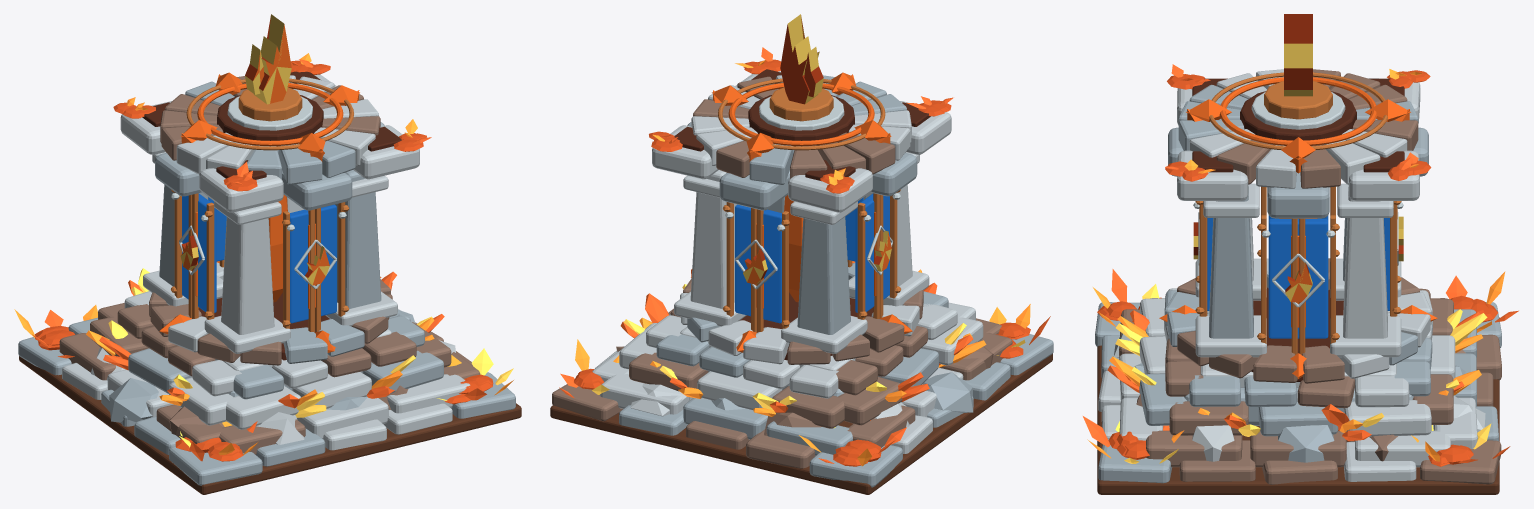
Rendered from fire.fbx.
3 views of the same model, side by side, from view 1: azimuth 30°, elevation 25°; view 2: azimuth 150°, elevation 25°; view 3: azimuth 270°, elevation 25° (orthographic). The views are drawn at different scales.
Visible parts, largest first — view 1: Tower_Premium_Fire_Stonework, Tower_Premium_Fire_Trim, Tower_Premium_Fire_Growth, Tower_Premium_Fire_Core, Tower_Premium_Fire_Elemental_Gems, Tower_Premium_Fire_Foundation_Rocks, Tower_Premium_Fire_Outer_Foliage; view 2: Tower_Premium_Fire_Stonework, Tower_Premium_Fire_Trim, Tower_Premium_Fire_Growth, Tower_Premium_Fire_Core, Tower_Premium_Fire_Foundation_Rocks, Tower_Premium_Fire_Elemental_Gems, Tower_Premium_Fire_Outer_Foliage; view 3: Tower_Premium_Fire_Stonework, Tower_Premium_Fire_Trim, Tower_Premium_Fire_Growth, Tower_Premium_Fire_Core, Tower_Premium_Fire_Outer_Foliage, Tower_Premium_Fire_Foundation_Rocks, Tower_Premium_Fire_Elemental_Gems.
Boxes of the visible parts, bbox=[...] form: Tower_Premium_Fire_Stonework: bbox=[18, 74, 515, 485]; Tower_Premium_Fire_Trim: bbox=[142, 71, 401, 360]; Tower_Premium_Fire_Growth: bbox=[14, 53, 521, 494]; Tower_Premium_Fire_Core: bbox=[159, 72, 381, 352]; Tower_Premium_Fire_Elemental_Gems: bbox=[180, 14, 329, 285]; Tower_Premium_Fire_Foundation_Rocks: bbox=[90, 309, 455, 444]; Tower_Premium_Fire_Outer_Foliage: bbox=[86, 268, 444, 417]; Tower_Premium_Fire_Stonework: bbox=[552, 71, 1053, 487]; Tower_Premium_Fire_Trim: bbox=[674, 69, 944, 360]; Tower_Premium_Fire_Growth: bbox=[550, 47, 1052, 494]; Tower_Premium_Fire_Core: bbox=[691, 72, 912, 352]; Tower_Premium_Fire_Foundation_Rocks: bbox=[616, 314, 993, 435]; Tower_Premium_Fire_Elemental_Gems: bbox=[743, 14, 891, 284]; Tower_Premium_Fire_Outer_Foliage: bbox=[620, 269, 986, 416]; Tower_Premium_Fire_Stonework: bbox=[1095, 69, 1501, 484]; Tower_Premium_Fire_Trim: bbox=[1192, 72, 1411, 381]; Tower_Premium_Fire_Growth: bbox=[1083, 64, 1518, 494]; Tower_Premium_Fire_Core: bbox=[1159, 72, 1437, 378]; Tower_Premium_Fire_Outer_Foliage: bbox=[1107, 309, 1487, 441]; Tower_Premium_Fire_Foundation_Rocks: bbox=[1113, 333, 1485, 462]; Tower_Premium_Fire_Elemental_Gems: bbox=[1193, 14, 1403, 302].
Size of the model in its own units: 405 by 430 by 425.
